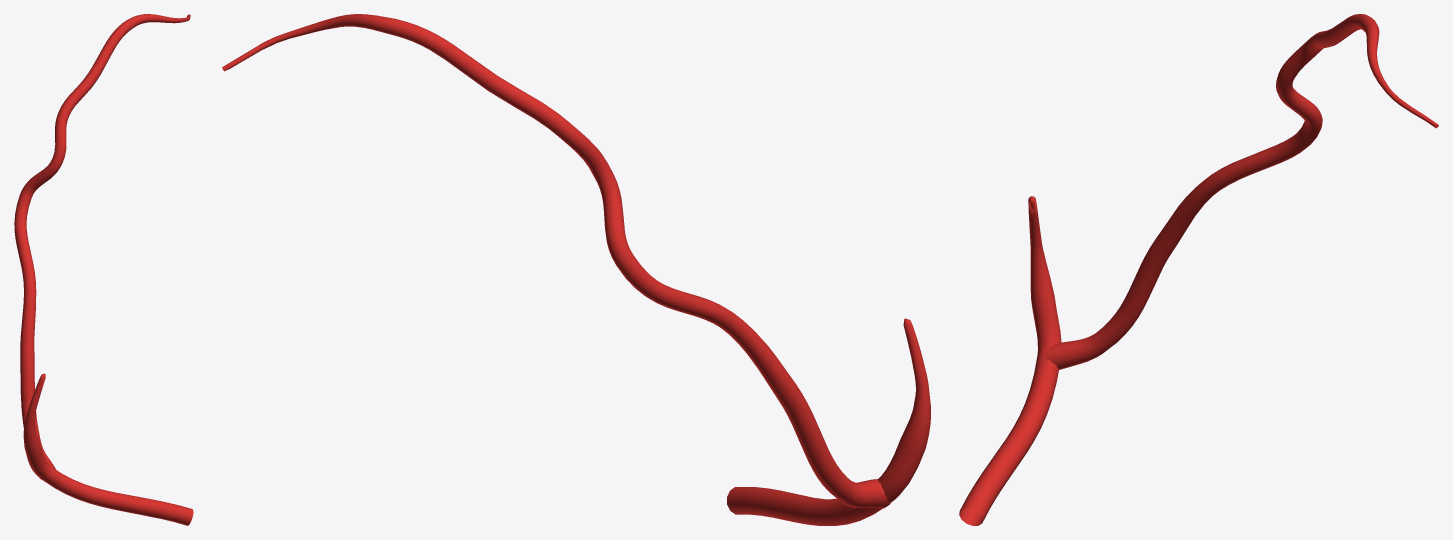
The model's file is circulatorio-parietal-branches-of-middle-cerebral-artery-r.glb.
The picture shows the model from 3 angles, left to right: view 1: azimuth 30°, elevation 25°; view 2: azimuth 150°, elevation 25°; view 3: azimuth 270°, elevation 25°; orthographic projection. The views are drawn at different scales.
Visible parts, largest first — view 1: Parietal branches of middle cerebral artery.r; view 2: Parietal branches of middle cerebral artery.r; view 3: Parietal branches of middle cerebral artery.r.
Part boxes in pixels (x1,y1,x2,y2): Parietal branches of middle cerebral artery.r: (14, 14, 193, 525); Parietal branches of middle cerebral artery.r: (222, 14, 930, 525); Parietal branches of middle cerebral artery.r: (959, 14, 1438, 525).
Size of the model in its own units: 0.0334 by 0.0409 by 0.0315.
